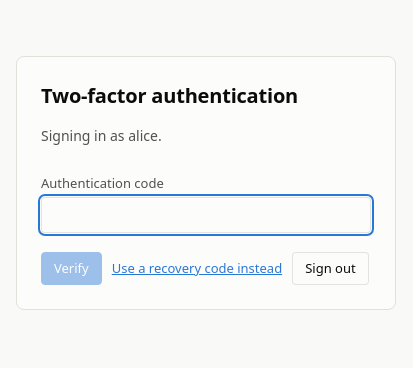
Test: TotpStep › replayed shows the exact §17.8 already-used string, like the hub page (no attempts suffix)
This screenshot has width=413, height=368.
Type "123456" into the field labelled "Authentication code".
click(206, 215); type("123456")  # box x1=41 y1=197 x2=371 y2=233
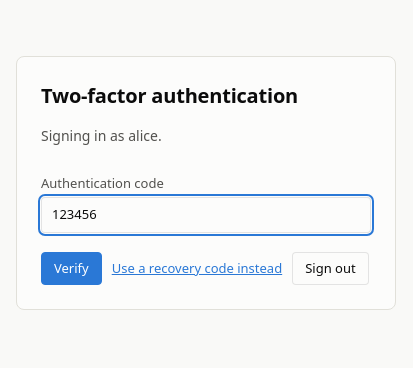
Click the button "Verify".
click(71, 269)  # box x1=41 y1=252 x2=102 y2=285
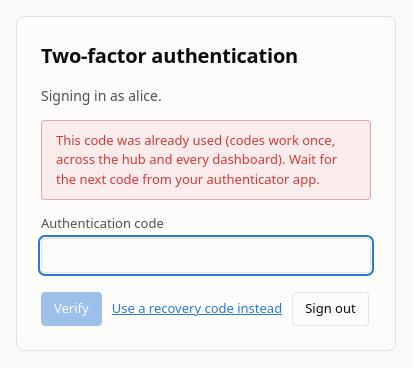
Expected: the message does not show "Check the time", x1=41 y1=120 x2=371 y2=200
Result: the message shows "This code was already used (codes work once, across the hub and every dashboard). Wait for the next code from your authenticator app." at x1=56 y1=130 x2=337 y2=188
